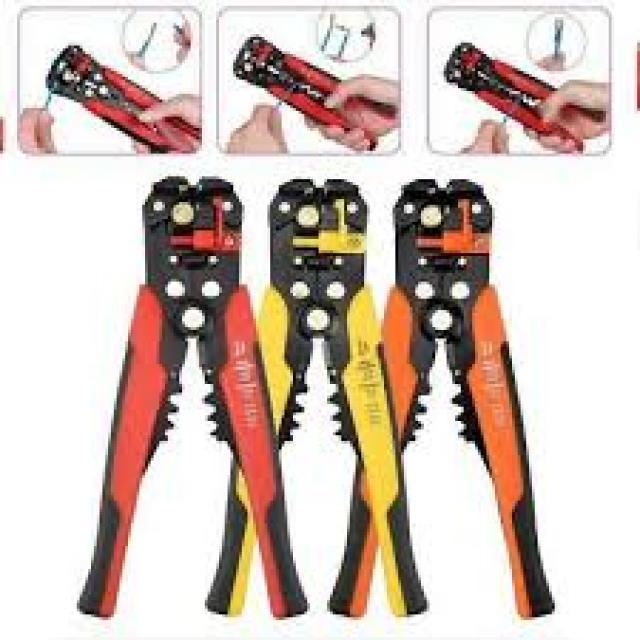pliers: (380, 166, 560, 632), (87, 164, 266, 614), (250, 170, 403, 602), (37, 38, 208, 154), (228, 28, 394, 146), (440, 34, 598, 148)
